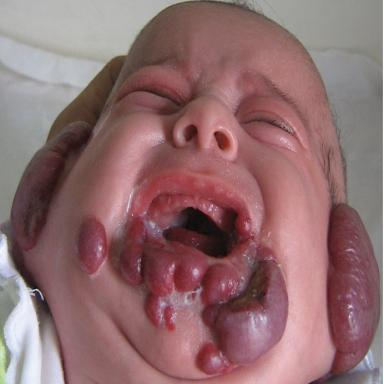Hemangiome: (328, 204, 380, 374), (120, 237, 240, 305), (75, 217, 107, 274), (145, 294, 176, 331), (197, 343, 226, 375)
